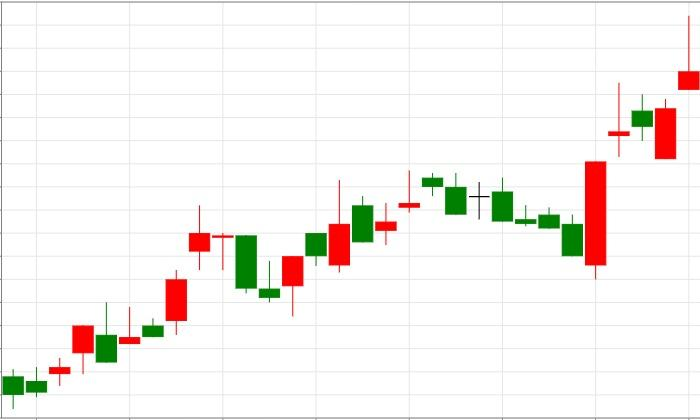bullish_engulfing_rise: (422, 161, 608, 279)
evening_star_fall: (2, 206, 258, 409)
